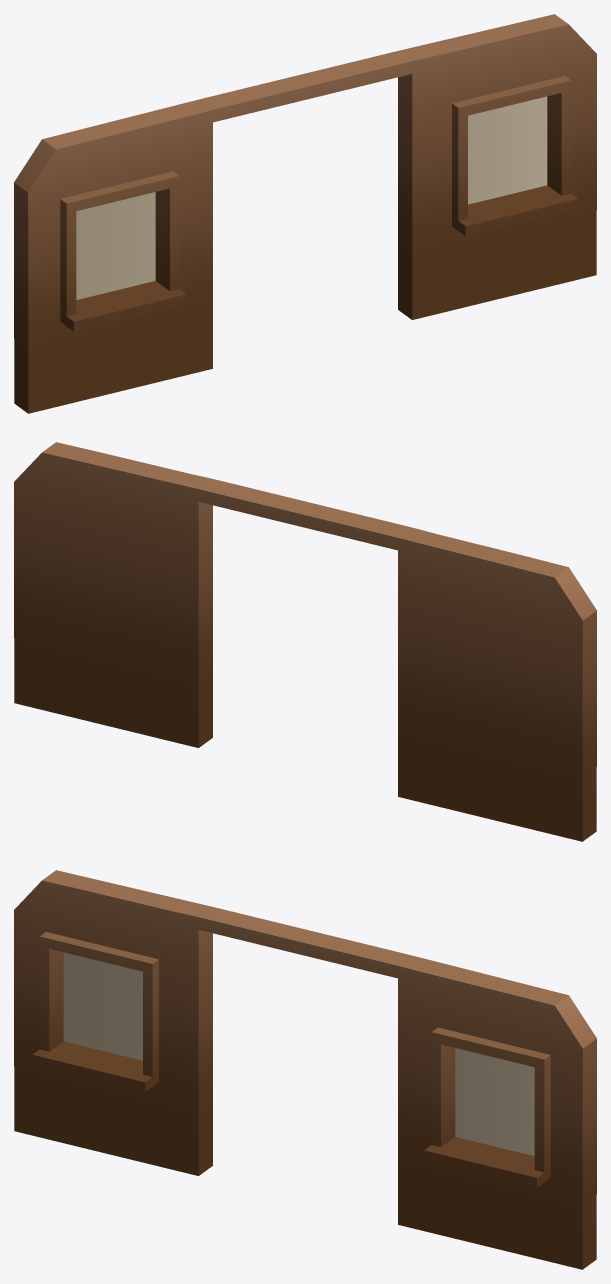
Rendered from Farmhouse_DoorFrame.fbx.
3 renders of one model, top to bottom at view 1: azimuth 30°, elevation 25°; view 2: azimuth 150°, elevation 25°; view 3: azimuth 330°, elevation 25°, orthographic.
Parts seen in each view (by area): view 1: Farmhouse_DoorFrame; view 2: Farmhouse_DoorFrame; view 3: Farmhouse_DoorFrame.
Part boxes in pixels (x1,y1,x2,y2): Farmhouse_DoorFrame: (14, 14, 596, 413); Farmhouse_DoorFrame: (14, 442, 596, 841); Farmhouse_DoorFrame: (14, 870, 596, 1269).
Size of the model in its own units: 4.6 by 2 by 0.391.
1 material, 1 textured.
